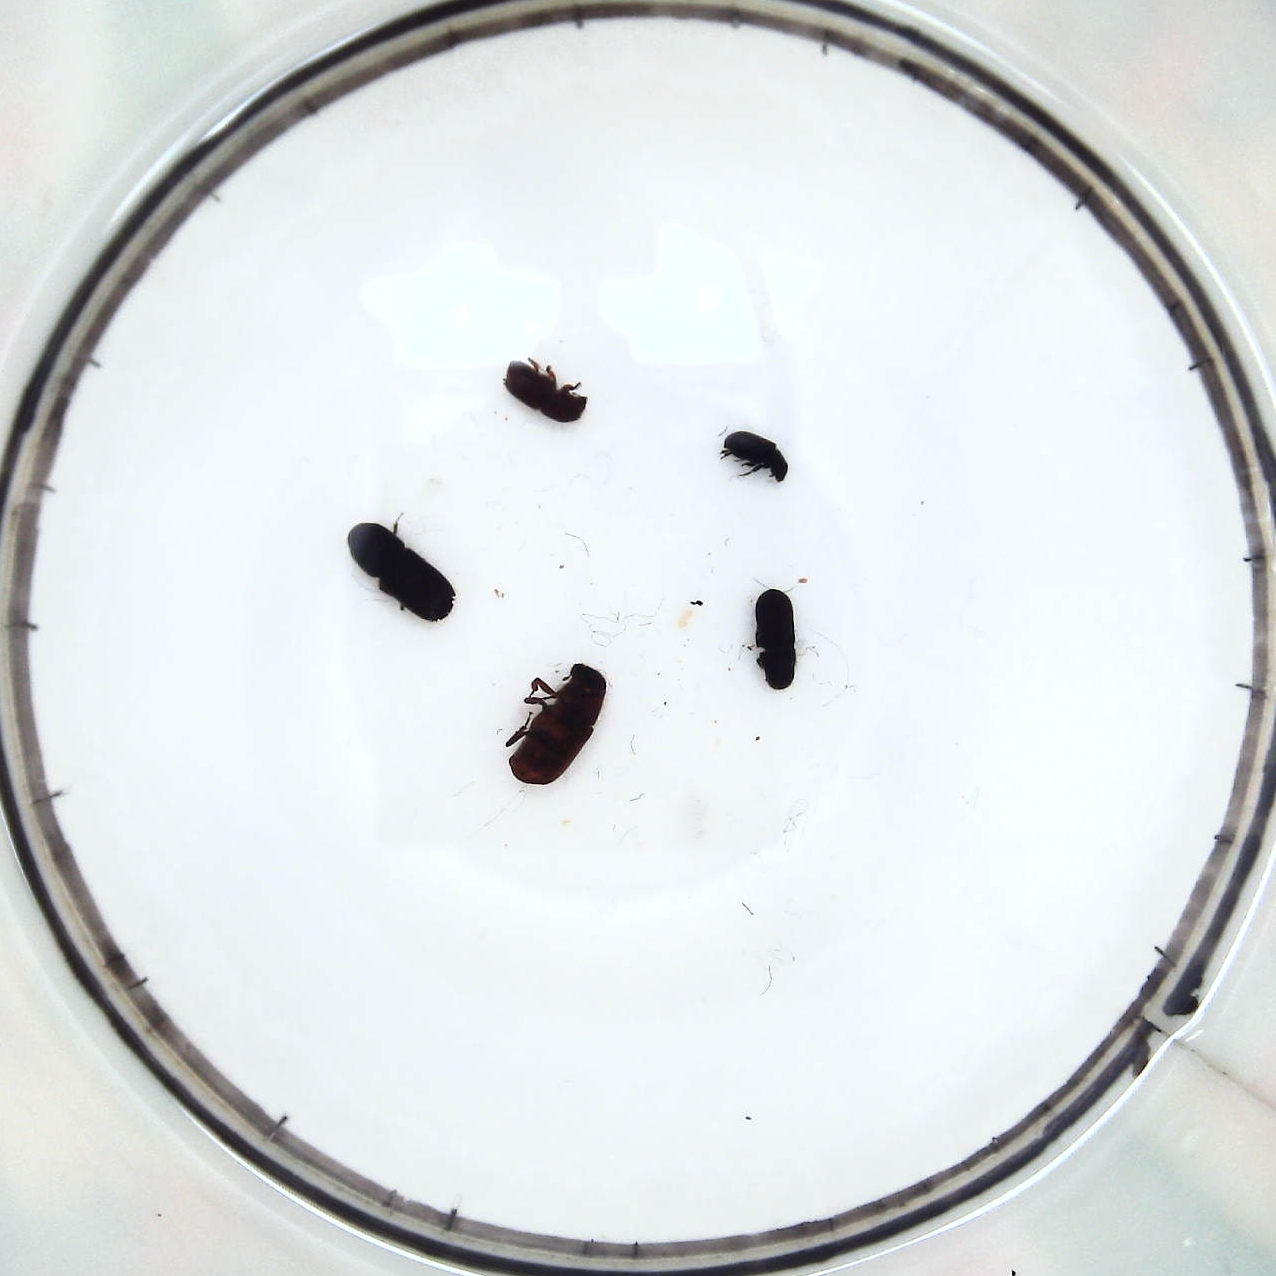Boerner: (344, 512, 457, 629)
Leconte: (508, 663, 608, 784)
Linnaeus: (502, 351, 591, 427)
armandi: (748, 583, 802, 691)
coleoptera: (717, 423, 788, 487)
